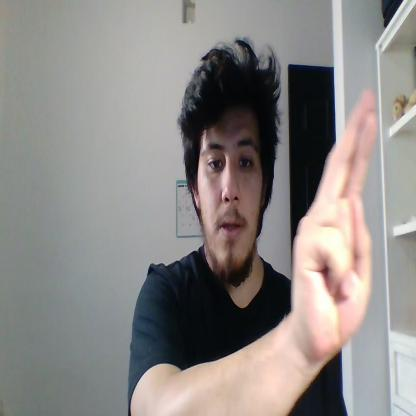R: (291, 92, 378, 362)
